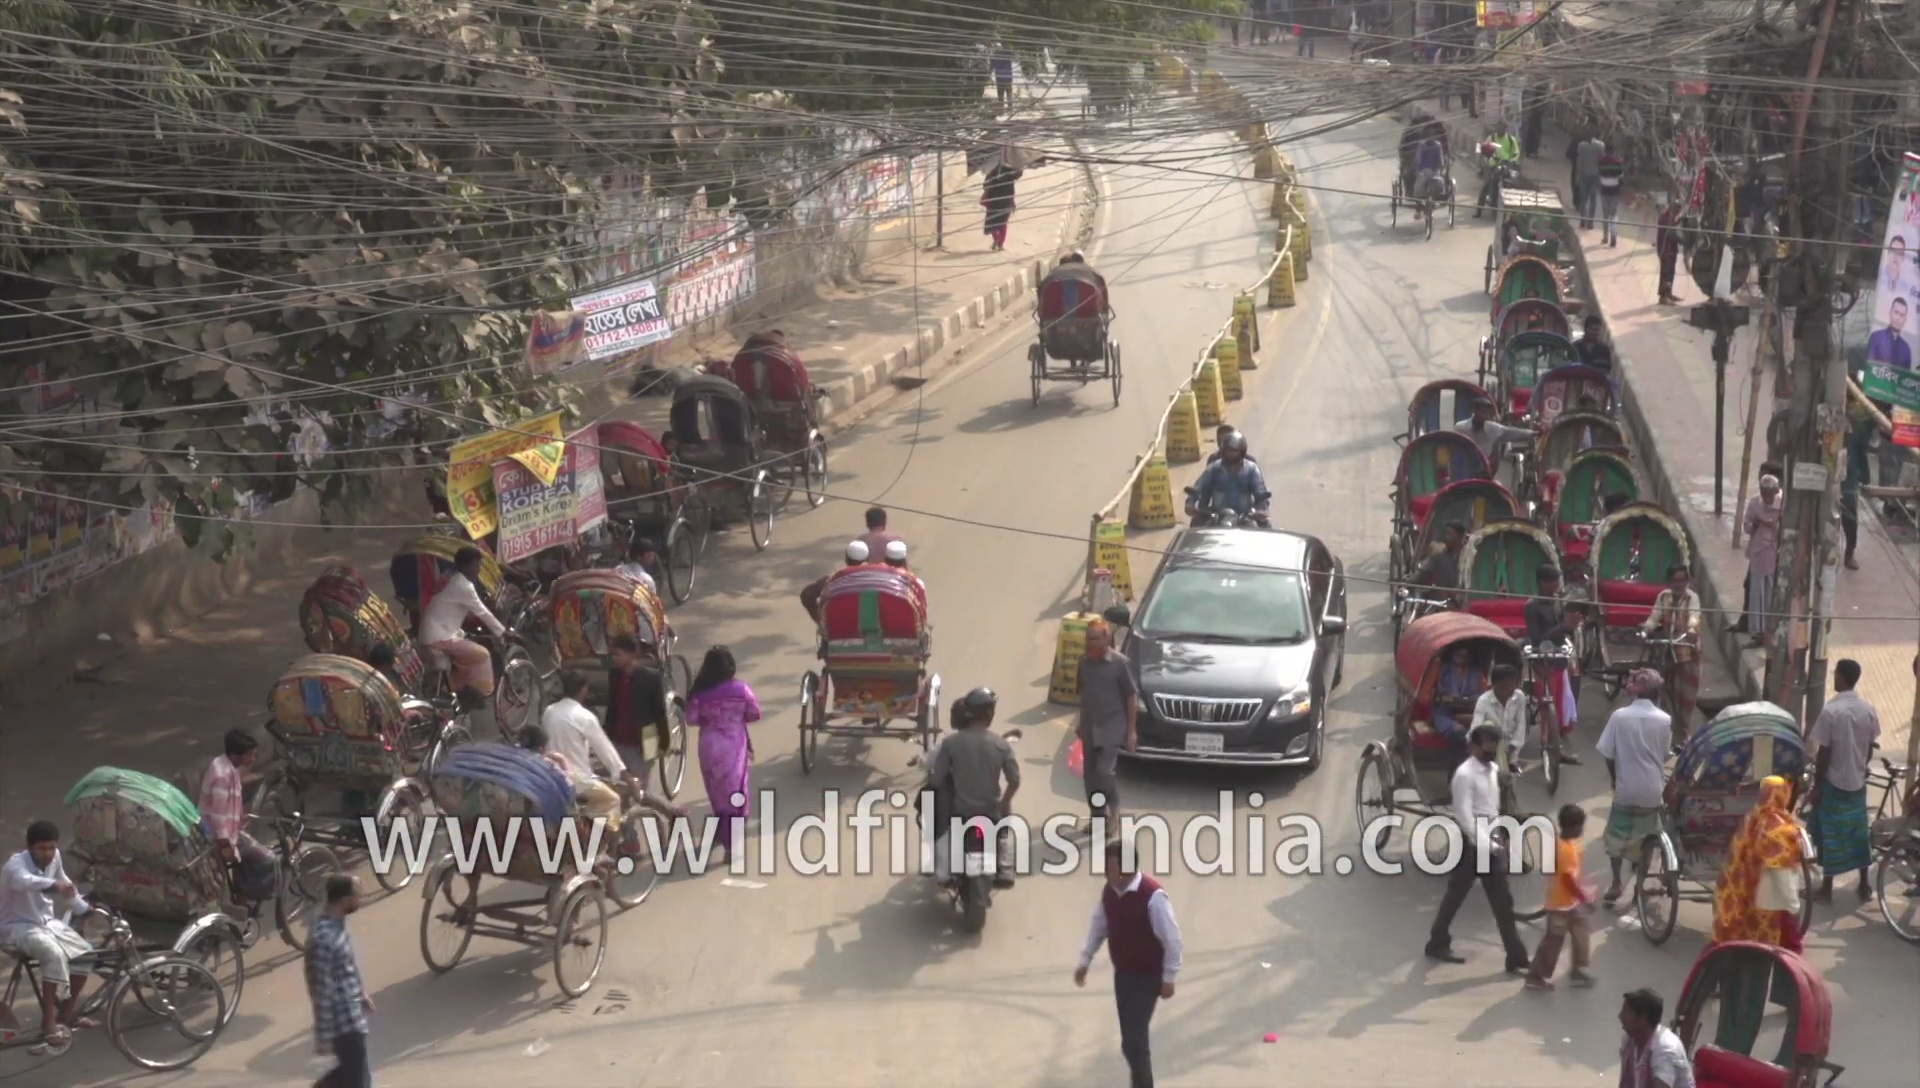5: (394, 732, 686, 1004), (789, 566, 947, 765), (1022, 262, 1126, 402)
bicycle: (935, 682, 1021, 942)
car: (1125, 529, 1328, 783)
